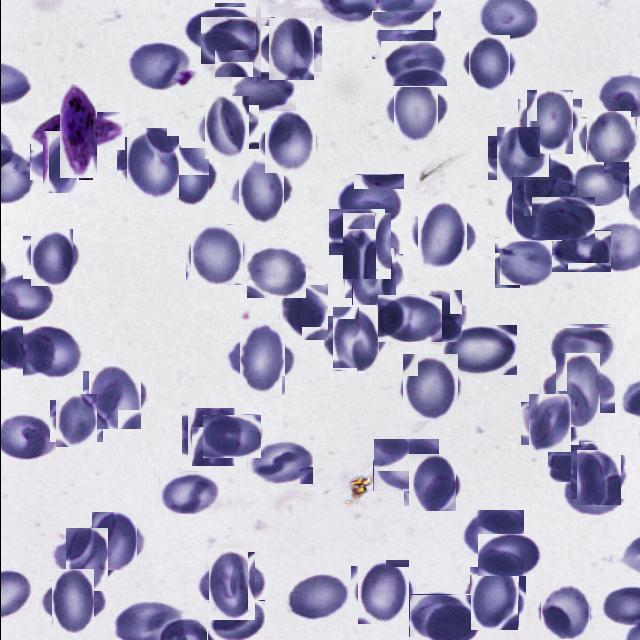difficult: (44, 98, 110, 164)
red blood cell: (120, 133, 182, 195), (411, 205, 472, 266), (400, 356, 460, 418), (442, 325, 516, 375), (207, 10, 267, 70), (202, 554, 261, 614), (372, 438, 438, 491), (548, 360, 606, 420), (232, 329, 290, 389), (333, 174, 403, 223), (85, 368, 143, 426), (354, 562, 412, 620), (22, 323, 82, 379), (371, 11, 440, 59), (508, 180, 565, 238), (548, 323, 615, 372), (285, 572, 350, 622), (188, 225, 245, 282), (260, 114, 318, 170), (338, 218, 396, 274), (493, 236, 555, 288), (465, 571, 522, 627), (125, 42, 191, 90), (521, 94, 577, 150), (376, 294, 441, 342), (183, 7, 255, 50), (388, 82, 443, 138), (380, 42, 446, 88), (233, 164, 288, 219), (246, 247, 305, 298), (560, 471, 625, 517), (461, 510, 523, 558), (328, 312, 383, 366), (59, 532, 113, 586), (46, 574, 100, 628), (199, 100, 253, 154), (263, 22, 317, 76), (246, 440, 312, 484), (513, 157, 576, 203), (537, 587, 591, 640), (530, 196, 594, 240), (184, 411, 237, 464), (568, 161, 628, 207), (491, 132, 544, 184), (406, 456, 458, 509), (278, 284, 327, 340), (408, 594, 471, 637), (582, 115, 634, 167), (87, 515, 139, 567), (231, 71, 295, 113), (477, 534, 539, 576), (201, 414, 260, 458), (158, 471, 218, 514), (328, 209, 384, 255), (348, 251, 398, 302), (524, 398, 574, 449), (550, 230, 610, 272), (26, 232, 76, 282), (163, 152, 213, 202), (36, 137, 86, 187), (573, 452, 623, 502), (464, 38, 513, 88), (206, 600, 264, 640), (52, 397, 100, 445), (416, 292, 464, 340), (547, 442, 603, 482)
